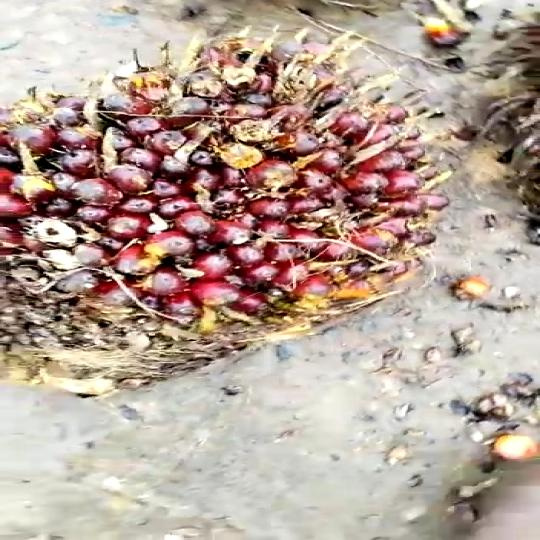kurang masak: (0, 36, 470, 403)
